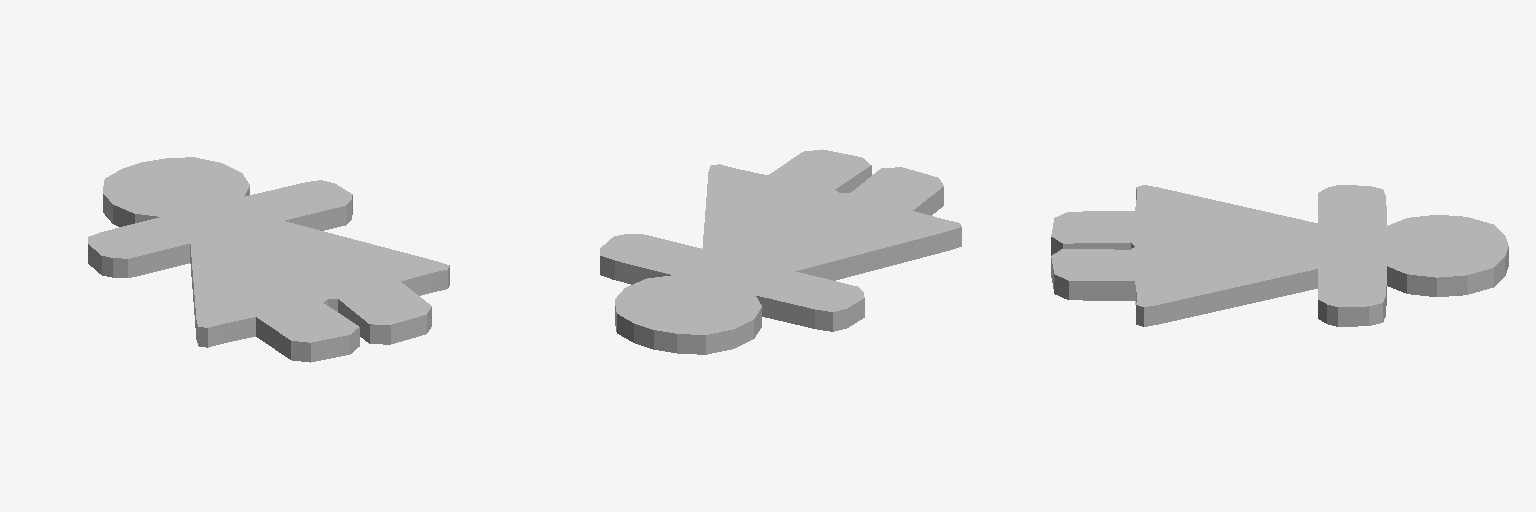
Rendered from Pepparkaka-Dam.obj.
3 renders of one model, left to right at view 1: azimuth 30°, elevation 25°; view 2: azimuth 150°, elevation 25°; view 3: azimuth 270°, elevation 25°, orthographic.
Parts seen in each view (by area): view 1: Plane; view 2: Plane; view 3: Plane.
Part boxes in pixels (bbox=[...]): Plane: bbox=[88, 157, 449, 362]; Plane: bbox=[600, 149, 961, 354]; Plane: bbox=[1051, 185, 1508, 326].
Bounding box in the file's own units: 2.64 × 0.198 × 4.17.